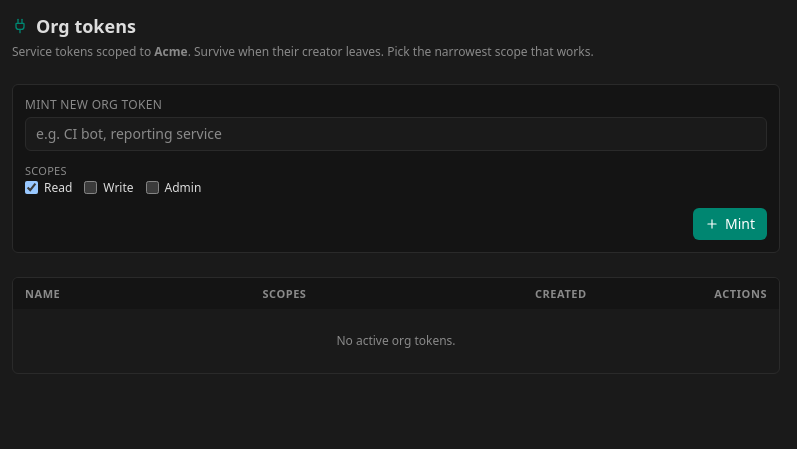
Scenario: OrgTokensTab › blocks minting with zero scopes (selecting none + clicking Mint shows error)
# Uncheck the default 'read'
Step 1. Click the checkbox named "scope read" → (32, 188), box [25,181,38,194]
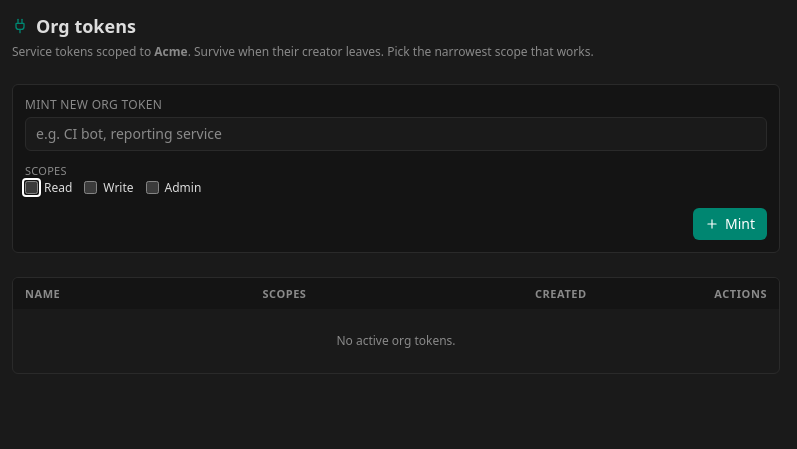
Step 2. Click the button "Mint" → (730, 224), box [693,208,767,240]
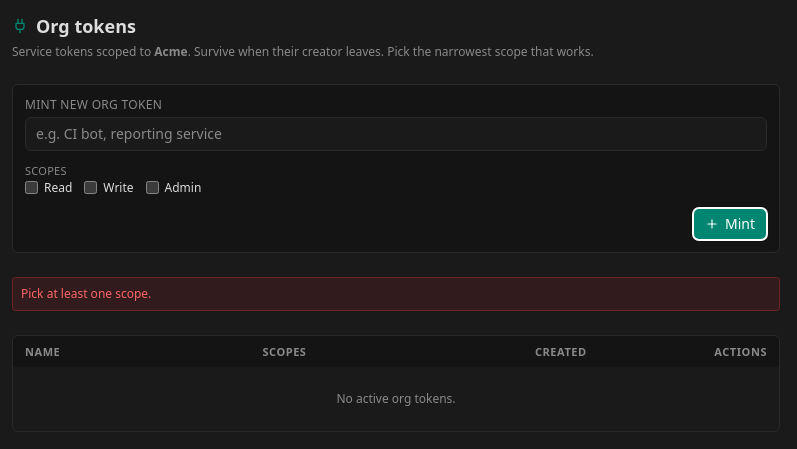
Result: the text "Pick at least one scope." is shown at [12,276,780,310]
